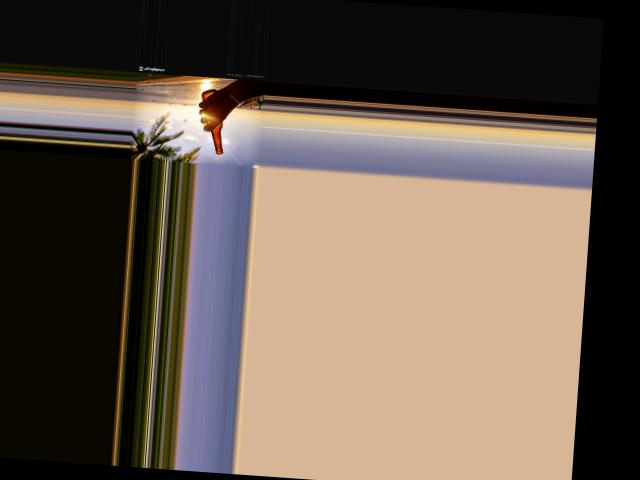beer: (198, 88, 228, 154)
